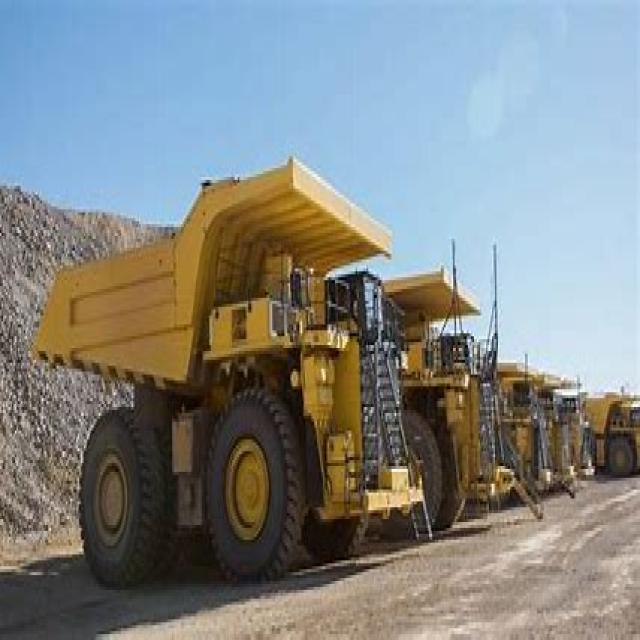dump_truck: (45, 147, 426, 593)
